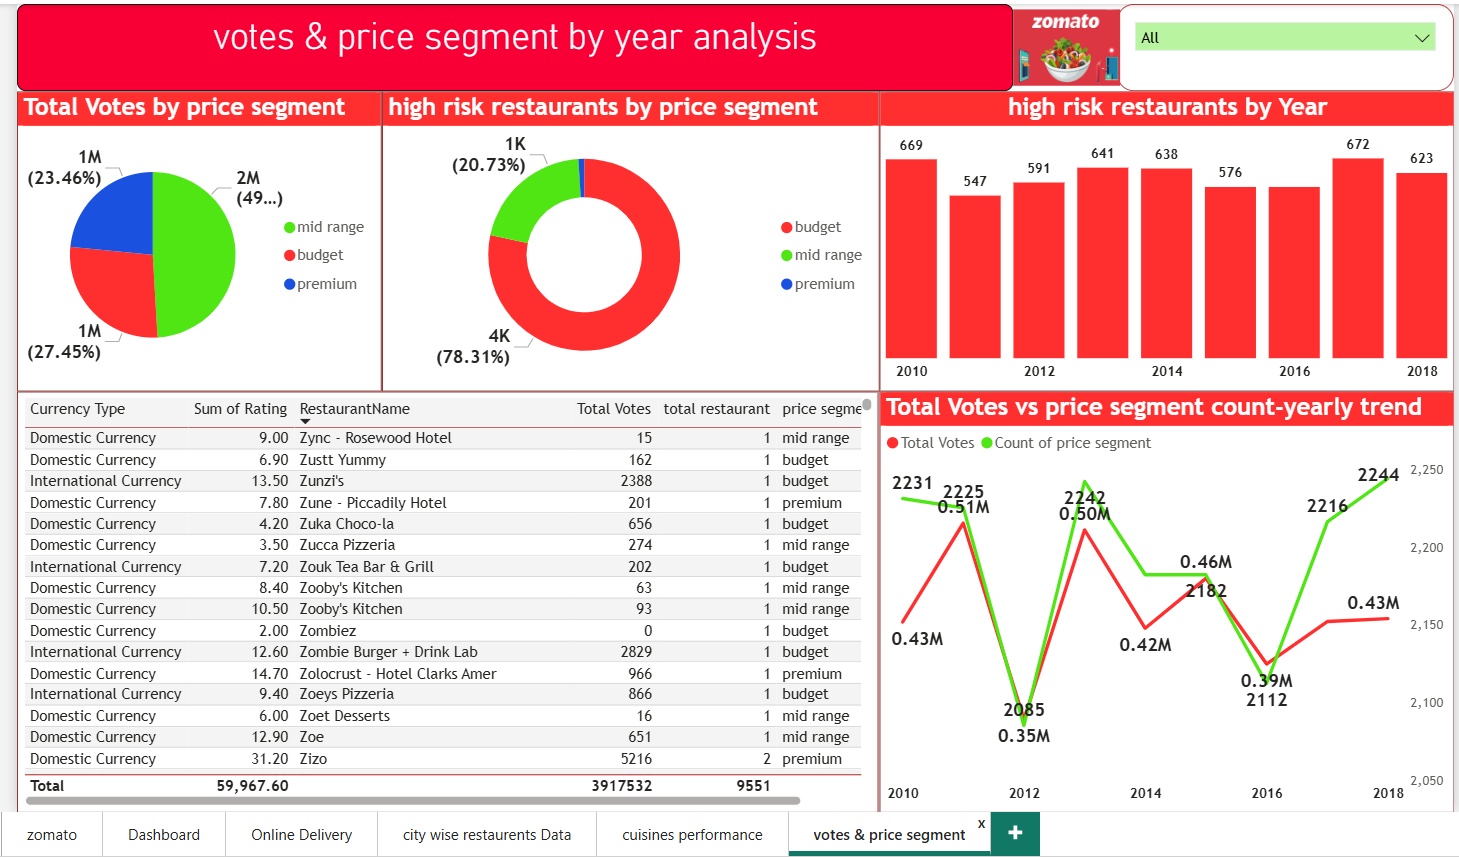

Layout of this report page (visuals, bound fields, positions):
{"tool":"powerbi","page":{"name":"votes & price segment ","canvas":[1280,720],"ordinal":5},"visuals":[{"type":"lineChart","title":"Total Votes vs price segment count-yearly trend","fields":{"Category":["Sheet1.new datekey.Variation.Date Hierarchy.Year"],"Y":["Sheet1.Total Votes"],"Y2":["CountNonNull(Sheet1.price segment)"]},"box":[767.5,344.8,512.2,375.1],"z":0},{"type":"columnChart","fields":{"Category":["Sheet1.new datekey.Variation.Date Hierarchy.Year"],"Y":["Sheet1.high risk restaurants"]},"box":[767.5,77.9,512.2,266.9],"z":1000},{"type":"tableEx","fields":{"Values":["Sheet1.Currency Type","Sum(Sheet1.Rating)","Sheet1.RestaurantName","Sheet1.Total Votes","Sheet1.total restarent","Sheet1.price segment","Sheet1.new datekey.Variation.Date Hierarchy.Year"]},"box":[0,344.8,767.5,375.1],"z":2000},{"type":"pieChart","fields":{"Category":["Sheet1.price segment"],"Y":["Sheet1.Total Votes"]},"box":[0,77.9,324.6,266.9],"z":3000},{"type":"donutChart","fields":{"Y":["Sheet1.high risk restaurants"],"Category":["Sheet1.price segment"]},"box":[324.6,77.9,442.9,266.9],"z":4000},{"type":"slicer","title":"Select Year","fields":{"Values":["Sheet1.new datekey","Sheet1.new datekey.Variation.Date Hierarchy.Year","Sheet1.new datekey.Variation.Date Hierarchy.Month"]},"box":[979.6,0,300.1,77.9],"z":5000},{"type":"textbox","box":[0,0,887.1,77.3],"z":6000},{"type":"image","box":[784.9,0,300.1,77.9],"z":7000}]}

Visuals, with their boxes in screenshot pixels (x1, y1, x2, y2):
"Total Votes vs price segment count-yearly trend" lineChart: region(874, 388, 1450, 809)
columnChart - Sheet1.new datekey.Variation.Date Hierarchy.Year x Sheet1.high risk restaurants: region(874, 88, 1450, 388)
tableEx - Sheet1.Currency Type x Sum(Sheet1.Rating): region(11, 388, 874, 809)
pieChart - Sheet1.price segment x Sheet1.Total Votes: region(11, 88, 376, 388)
donutChart - Sheet1.high risk restaurants x Sheet1.price segment: region(376, 88, 874, 388)
"Select Year" slicer: region(1113, 0, 1450, 88)
textbox: region(11, 0, 1009, 87)
image: region(894, 0, 1231, 88)
